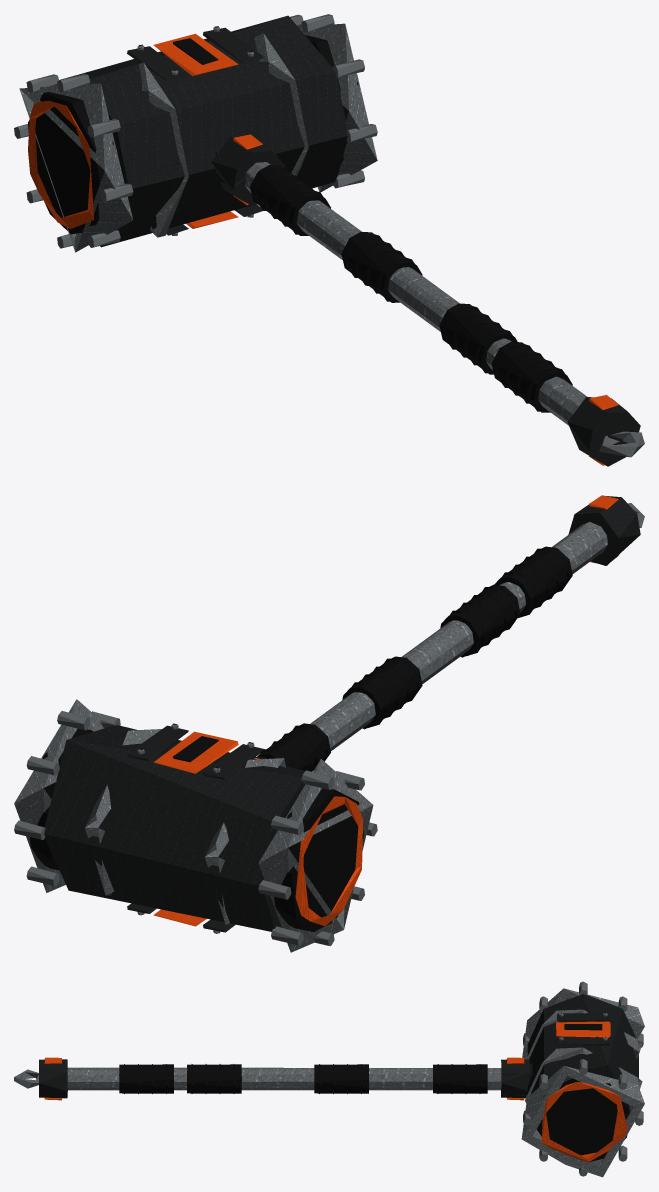
Rendered from impulse-hammer-long-grip-lod2.glb.
The picture shows the model from 3 angles, top to bottom: view 1: azimuth 30°, elevation 25°; view 2: azimuth 150°, elevation 25°; view 3: azimuth 270°, elevation 25°; orthographic projection. The views are drawn at different scales.
Visible parts, largest first — view 1: Octagonal impulse housing, Machined central haft, Recessed striking plate, Heavy endcap steel cage, Heavy endcap steel cage.001, Locking haft joint, Rubber impact grip sleeve, Rubber impact grip sleeve.003, Rubber impact grip sleeve.002, Rubber impact grip sleeve.001, Locking haft joint.001, Endcap orange indicator lip (+6 smaller); view 2: Octagonal impulse housing, Machined central haft, Recessed striking plate, Heavy endcap steel cage, Heavy endcap steel cage.001, Rubber impact grip sleeve.002, Rubber impact grip sleeve.001, Locking haft joint, Rubber impact grip sleeve, Endcap orange indicator lip, Rubber impact grip sleeve.003, Steel housing compression band.001 (+5 smaller); view 3: Machined central haft, Octagonal impulse housing, Recessed striking plate.001, Heavy endcap steel cage.001, Endcap orange indicator lip.001, Rubber impact grip sleeve.003, Rubber impact grip sleeve.001, Rubber impact grip sleeve, Rubber impact grip sleeve.002, Heavy endcap steel cage, Locking haft joint, Locking haft joint.001 (+6 smaller).
Part boxes in pixels (box(x1,y1,x2,y2)): Octagonal impulse housing: box(59, 15, 347, 247); Machined central haft: box(245, 162, 587, 425); Recessed striking plate: box(28, 92, 113, 234); Heavy endcap steel cage: box(19, 83, 133, 252); Heavy endcap steel cage.001: box(298, 23, 377, 192); Locking haft joint: box(567, 397, 640, 466); Rubber impact grip sleeve: box(491, 341, 572, 412); Rubber impact grip sleeve.003: box(250, 165, 330, 235); Rubber impact grip sleeve.002: box(341, 231, 422, 302); Rubber impact grip sleeve.001: box(439, 303, 517, 374); Locking haft joint.001: box(211, 136, 284, 205); Endcap orange indicator lip: box(28, 100, 94, 228); Octagonal impulse housing: box(44, 725, 305, 931); Machined central haft: box(310, 521, 607, 750); Recessed striking plate: box(274, 788, 363, 931); Heavy endcap steel cage: box(258, 759, 373, 952); Heavy endcap steel cage.001: box(14, 699, 104, 892); Rubber impact grip sleeve.002: box(342, 656, 422, 729); Rubber impact grip sleeve.001: box(440, 584, 520, 657); Locking haft joint: box(568, 496, 640, 565); Rubber impact grip sleeve: box(494, 546, 572, 617); Endcap orange indicator lip: box(295, 796, 363, 926); Rubber impact grip sleeve.003: box(257, 723, 330, 771); Steel housing compression band.001: box(85, 729, 161, 895); Machined central haft: box(67, 1067, 501, 1090); Octagonal impulse housing: box(527, 994, 638, 1094); Recessed striking plate.001: box(536, 1078, 629, 1162); Heavy endcap steel cage.001: box(521, 1066, 644, 1177); Endcap orange indicator lip.001: box(541, 1082, 627, 1161); Rubber impact grip sleeve.003: box(433, 1064, 487, 1093); Rubber impact grip sleeve.001: box(187, 1064, 241, 1093); Rubber impact grip sleeve: box(119, 1064, 173, 1093); Rubber impact grip sleeve.002: box(314, 1064, 368, 1093); Heavy endcap steel cage: box(522, 988, 644, 1059); Locking haft joint: box(39, 1059, 67, 1098); Locking haft joint.001: box(501, 1059, 529, 1098).
Bounding box in the file's own units: 0.4813 × 0.2909 × 1.49.
Materials: 4 (4 with a texture image).
